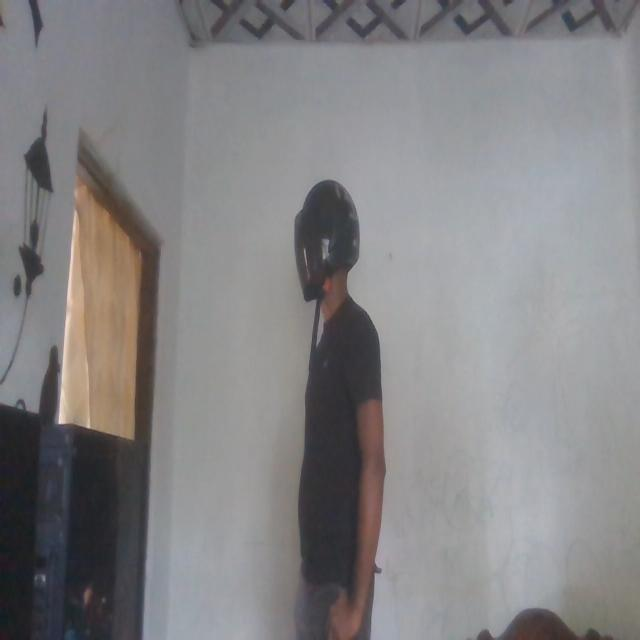Helmet_Wearer: (289, 172, 359, 298)
Person: (287, 185, 387, 637)
